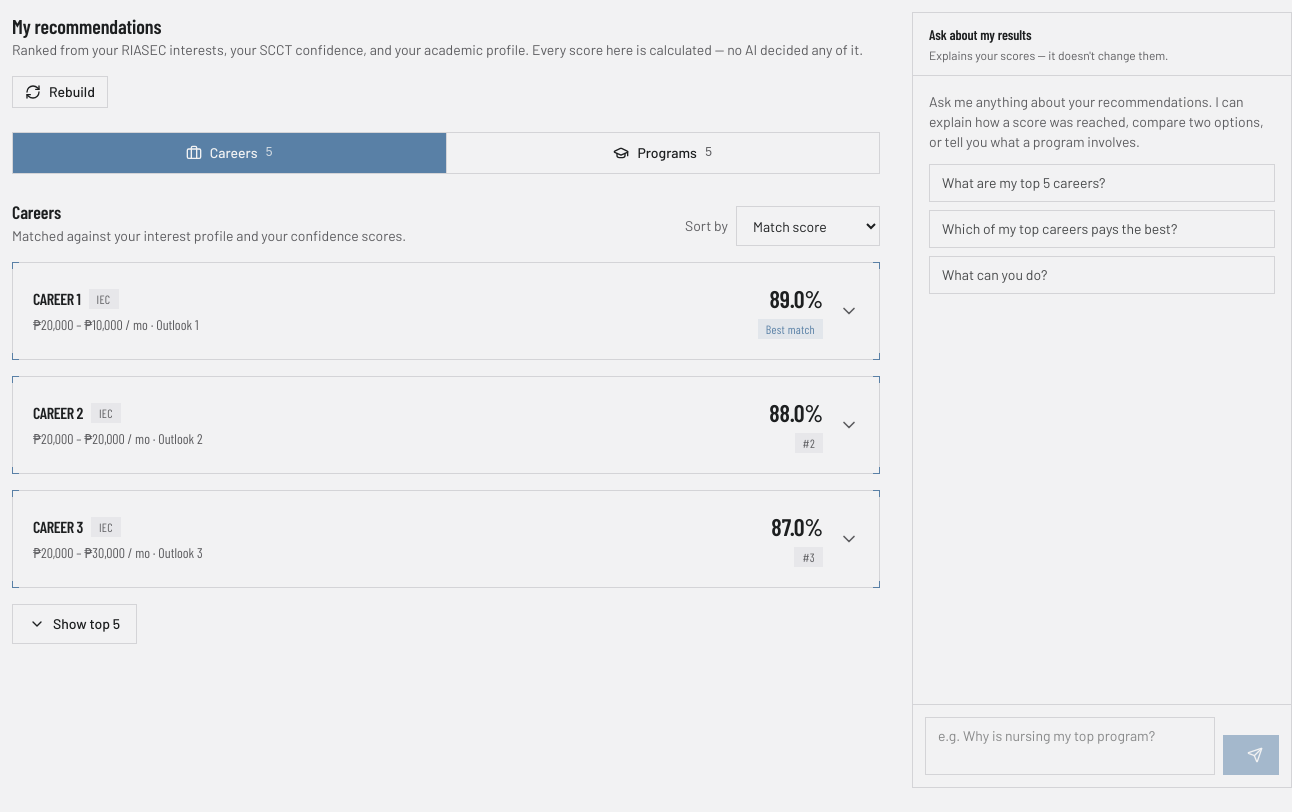
Test: RecommendationPage › switches between careers and programs
The image size is (1292, 812).
Check: the text "Career 1" is shown, box [33,289,80,308]
Check: the text "Program 1" is not shown
Click the button "Programs 5": (662, 153) [446,133,879,173]
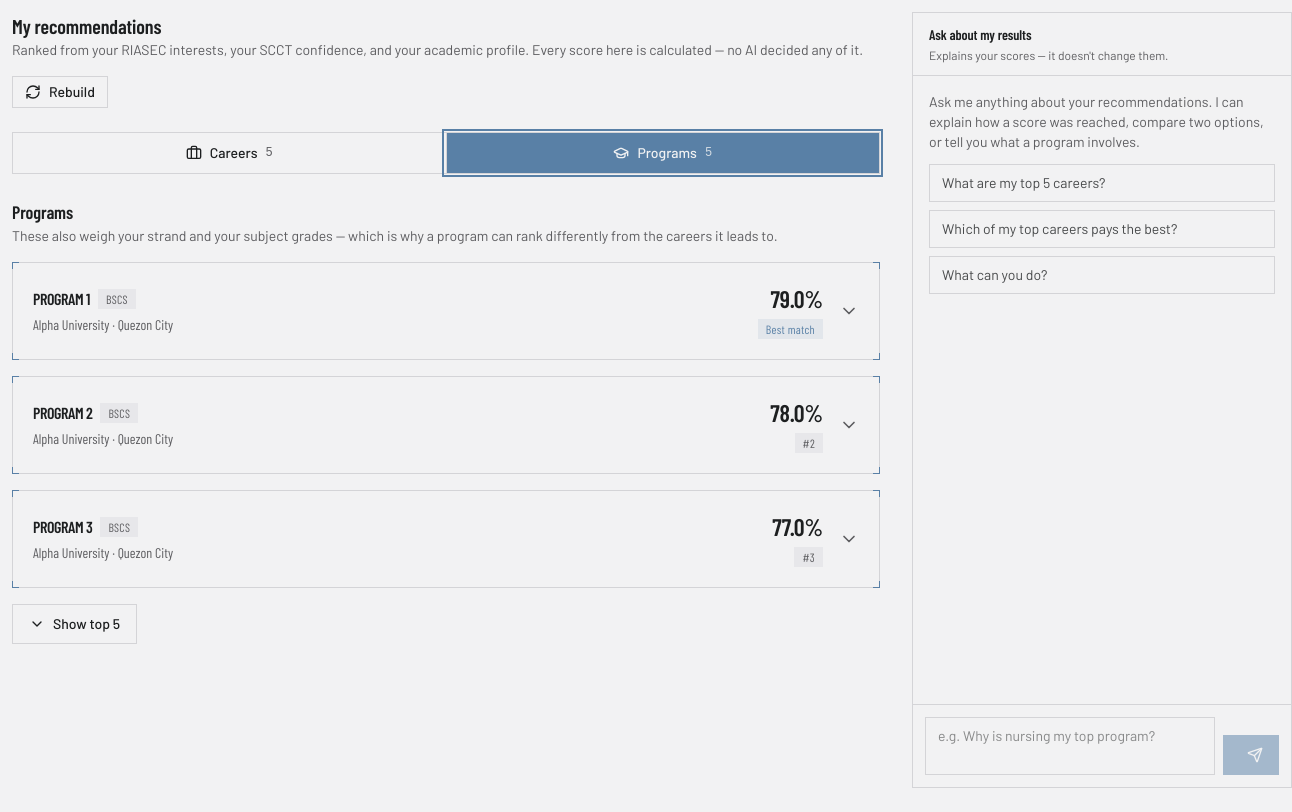
Check: the text "Program 1" is shown, box [33,289,90,308]
Check: the button "Career 1" is gone
Check: the heading "Programs" is shown, box [12,201,73,223]
